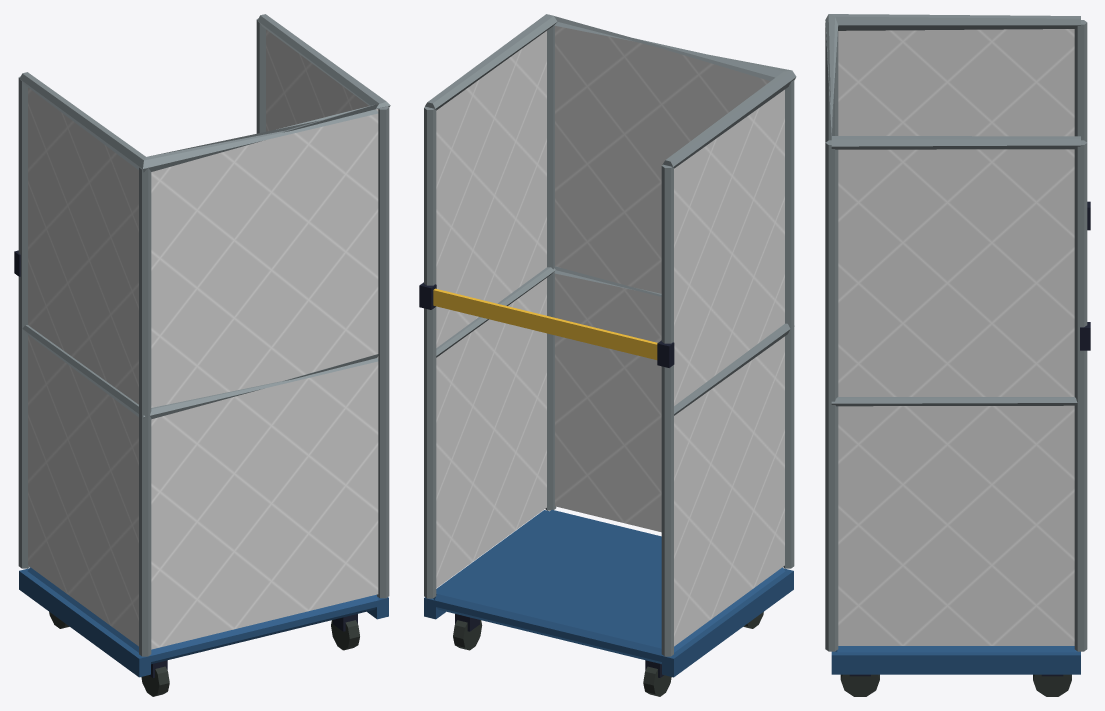
Rendered from sm_env_depot_roll_cage.glb.
3 views of the same model, side by side, from view 1: azimuth 30°, elevation 25°; view 2: azimuth 150°, elevation 25°; view 3: azimuth 270°, elevation 25° (orthographic). The views are drawn at different scales.
Parts seen in each view (by area): view 1: CageBack, CageSide, TopRail, Post.001, Post.003, CageSide.001, Post, Base, BaseRail, MidRail, Post.002, Caster.003 (+1 smaller); view 2: CageBack, CageSide, CageSide.001, Base, TopRail, Post, Post.002, Post.001, Strap, Post.003, BaseRail, MidRail (+3 smaller); view 3: CageSide.001, CageSide, TopRail, Post.003, Post.002, BaseRail.001, MidRail, Base, Post, Post.001, Caster.003, Caster.002.
Part boxes in pixels (x1,y1,x2,y2): CageBack: (151,109,378,649); CageSide: (28,87,138,646); TopRail: (19,14,390,172); Post.001: (139,167,151,656); Post.003: (377,106,389,598); CageSide.001: (266,29,368,131); Post: (18,76,29,568); Base: (27,567,379,664); BaseRail: (19,568,150,677); MidRail: (22,325,378,419); Post.002: (256,18,265,133); Caster.003: (331,620,359,650); CageBack: (555,26,770,532); CageSide: (674,89,784,646); CageSide.001: (436,31,546,588); Base: (433,509,785,664); TopRail: (425,14,796,168); Post: (661,164,673,656); Post.002: (424,106,436,598); Post.001: (783,80,794,568); Strap: (433,288,657,359); Post.003: (545,25,556,510); BaseRail: (662,568,793,677); MidRail: (436,266,790,415); CageSide.001: (838,149,1074,645); CageSide: (838,29,1074,136); TopRail: (825,14,1080,149); Post.003: (825,140,838,651); Post.002: (1074,140,1087,651); BaseRail.001: (831,651,1080,674); MidRail: (831,397,1077,406); Base: (835,646,1077,652); Post: (1074,20,1087,142); Post.001: (825,22,838,142); Caster.003: (840,674,879,696); Caster.002: (1033,674,1071,696).
Bounding box in the file's own units: 0.8455 × 1.77 × 0.745.
Materials: 6 (1 with a texture image).
